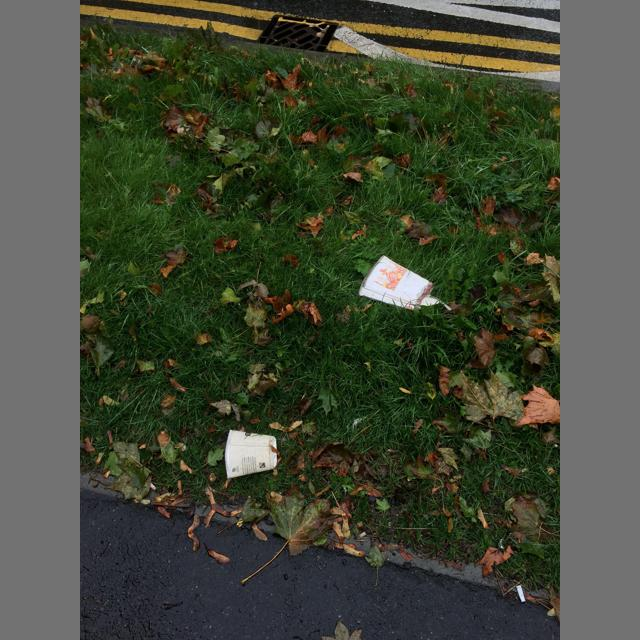litter: (358, 255, 451, 310), (225, 430, 277, 479), (516, 585, 525, 602)
